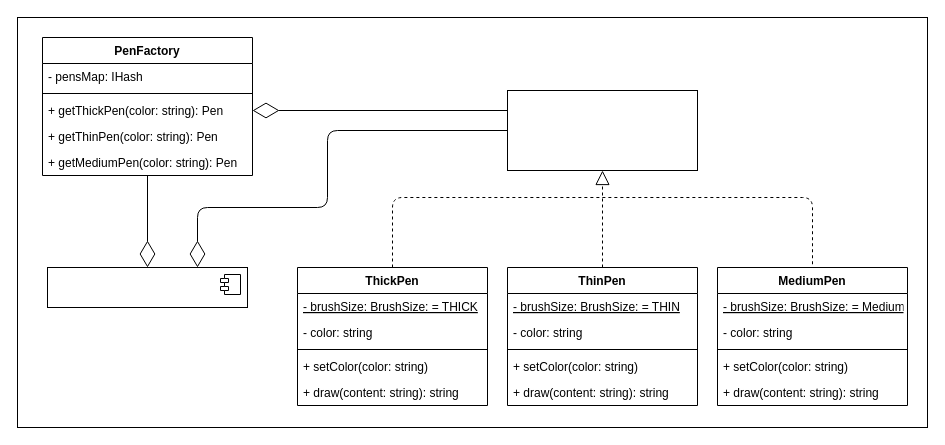
Some shapes in this 945 by 445 pixel diagram are drawn without their labels. The centre of each missing label's shape, as x and y in pixels:
<<Interface>> Pen + setColor(color: string) + draw(content: string): string: point 602,130
Flyweight.component: point 147,287
